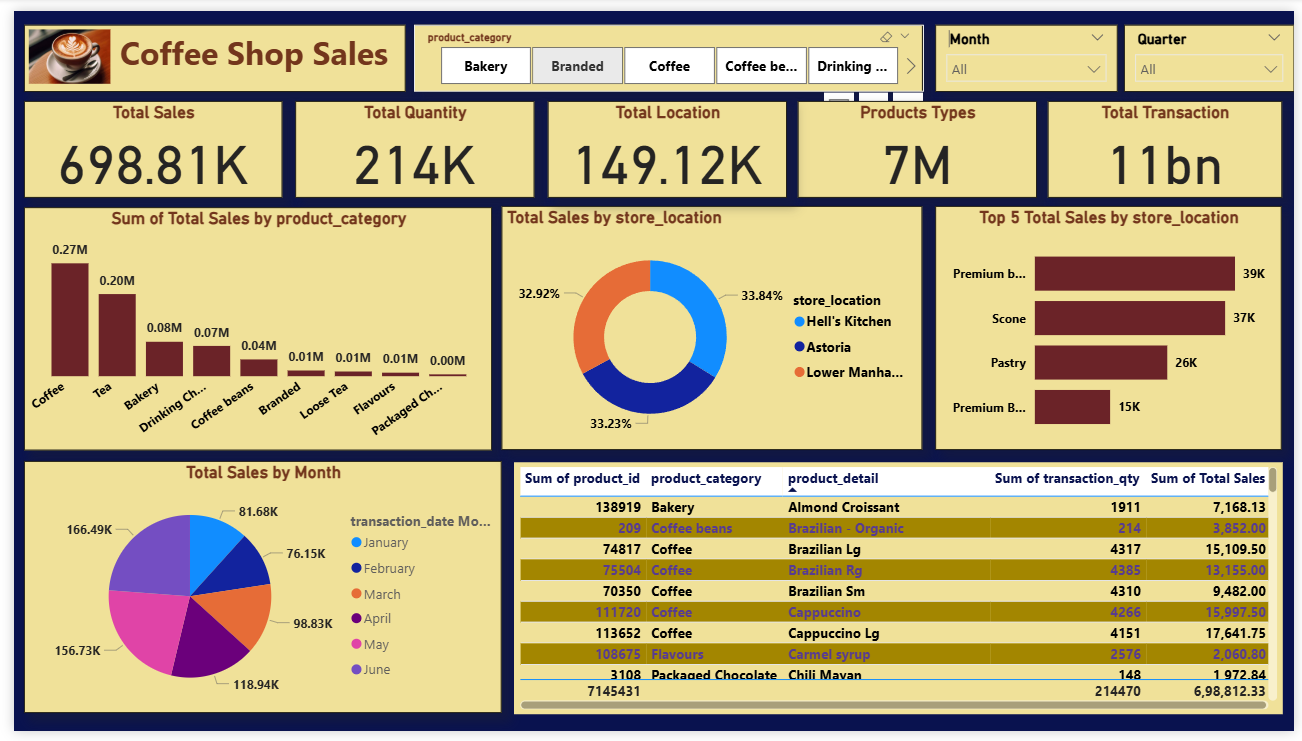

The page's visual inventory and layout, read from the dashboard file:
{"tool":"powerbi","page":{"name":"Page 1","canvas":[1280,720],"ordinal":0},"visuals":[{"type":"textbox","box":[9.7,13.3,381.2,67.6],"z":0},{"type":"slicer","fields":{"Values":["Transactions.product_category"]},"box":[400.5,13.3,509.1,67.6],"z":1000},{"type":"slicer","fields":{"Values":["Transactions.transaction_date.Variation.Date Hierarchy.Month"]},"box":[921.7,13.3,182.2,67.6],"z":2000},{"type":"slicer","fields":{"Values":["Transactions.transaction_date.Variation.Date Hierarchy.Quarter"]},"box":[1109.9,13.3,170.1,67.6],"z":3000},{"type":"card","title":"Total Sales","fields":{"Values":["Sum(Transactions.Total Sales)"]},"box":[9.7,90.5,258.2,96.5],"z":4000},{"type":"card","title":"Total Quantity","fields":{"Values":["Sum(Transactions.transaction_qty)"]},"box":[281.1,90.5,238.9,96.5],"z":5000},{"type":"card","title":" Products Types","fields":{"Values":["Sum(Transactions.product_id)"]},"box":[784.2,90.5,238.9,96.5],"z":6000},{"type":"card","title":"Total Transaction","fields":{"Values":["Sum(Transactions.transaction_id)"]},"box":[1033.9,90.5,234,96.5],"z":7000},{"type":"columnChart","fields":{"Y":["Sum(Transactions.Total Sales)"],"Category":["Transactions.product_category"]},"box":[9.8,195.7,468.3,243.3],"z":8000},{"type":"pieChart","title":"Total Sales by Month","fields":{"Category":["Transactions.transaction_date.Variation.Date Hierarchy.Month"],"Y":["Sum(Transactions.Total Sales)"]},"box":[9.7,450,477.8,252.1],"z":9000},{"type":"donutChart","title":" Total Sales by store_location","fields":{"Category":["Transactions.store_location"],"Y":["Sum(Transactions.Total Sales)"]},"box":[487.4,195.4,421,243.7],"z":10000},{"type":"barChart","title":" Top 5 Total Sales by store_location","fields":{"Category":["Transactions.product_type"],"Y":["Sum(Transactions.Total Sales)"]},"box":[921.7,195.4,346.2,243.7],"z":11000},{"type":"tableEx","fields":{"Values":["Sum(Transactions.product_id)","Transactions.product_category","Transactions.product_detail","Sum(Transactions.transaction_qty)","Sum(Transactions.Total Sales)"]},"box":[499.5,451.2,768.5,252.1],"z":12000},{"type":"card","title":"Total Location","fields":{"Values":["CountNonNull(Transactions.store_location)"]},"box":[533.2,90.5,238.9,96.5],"z":13000},{"type":"image","box":[9.7,0,91.7,90.5],"z":14000}]}

Visuals, with their boxes in screenshot pixels (x1, y1, x2, y2), scaled from the page's 1280x720 canvas onto the 1302x741 screenshot:
textbox: pyautogui.locateOnScreen(10, 14, 398, 83)
slicer - Transactions.product_category: pyautogui.locateOnScreen(407, 14, 925, 83)
slicer - Transactions.transaction_date.Variation.Date Hierarchy.Month: pyautogui.locateOnScreen(938, 14, 1123, 83)
slicer - Transactions.transaction_date.Variation.Date Hierarchy.Quarter: pyautogui.locateOnScreen(1129, 14, 1301, 83)
"Total Sales" card: pyautogui.locateOnScreen(10, 93, 273, 192)
"Total Quantity" card: pyautogui.locateOnScreen(286, 93, 529, 192)
" Products Types" card: pyautogui.locateOnScreen(798, 93, 1041, 192)
"Total Transaction" card: pyautogui.locateOnScreen(1052, 93, 1290, 192)
columnChart - Sum(Transactions.Total Sales) x Transactions.product_category: pyautogui.locateOnScreen(10, 201, 486, 452)
"Total Sales by Month" pieChart: pyautogui.locateOnScreen(10, 463, 496, 723)
" Total Sales by store_location" donutChart: pyautogui.locateOnScreen(496, 201, 924, 452)
" Top 5 Total Sales by store_location" barChart: pyautogui.locateOnScreen(938, 201, 1290, 452)
tableEx - Sum(Transactions.product_id) x Transactions.product_category: pyautogui.locateOnScreen(508, 464, 1290, 724)
"Total Location" card: pyautogui.locateOnScreen(542, 93, 785, 192)
image: pyautogui.locateOnScreen(10, 0, 103, 93)
